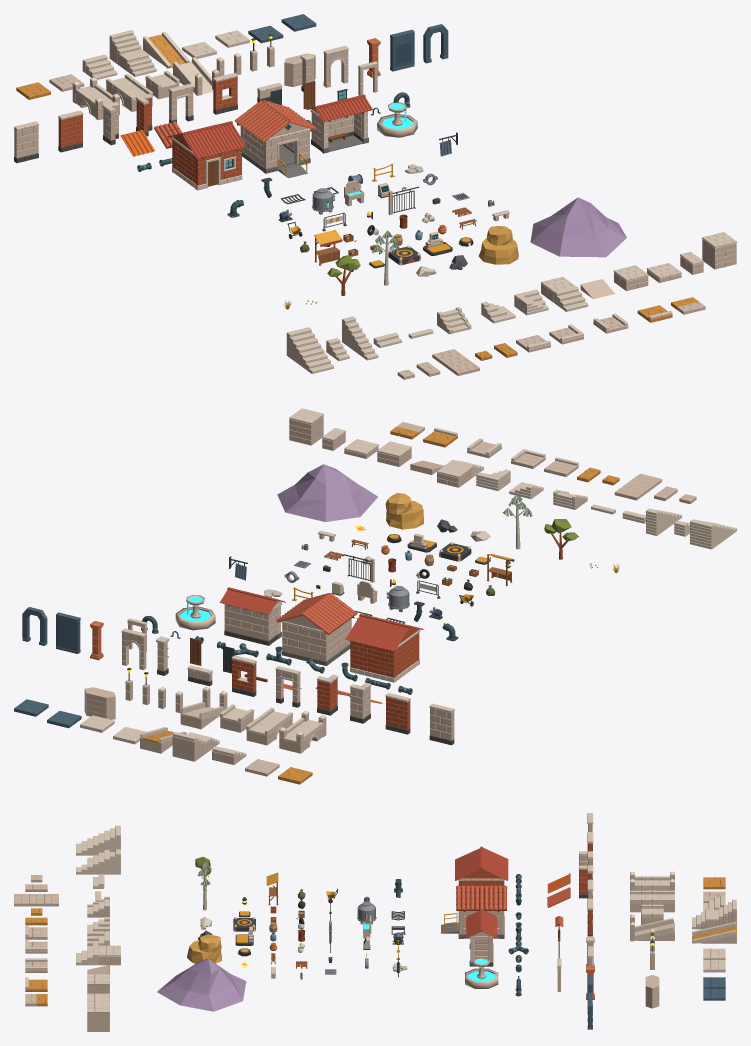
Rendered from kit_completo.glb.
3 views of the same model, one above another, from view 1: azimuth 30°, elevation 25°; view 2: azimuth 150°, elevation 25°; view 3: azimuth 270°, elevation 25° (orthographic). The views are drawn at different scales.
Parts seen in each view (by area): view 1: montana, chapa_01 (×2), meseta; view 2: montana, chapa_02 (×2), meseta, cuerpo_01, pila_01; view 3: montana, meseta, chapa_02, chapa_01, pilon_01.
Part boxes in pixels (box(x1,y1,x2,y2)): montana: box(530, 197, 626, 257); chapa_01 (×2): box(183, 96, 372, 159); meseta: box(478, 226, 518, 264); montana: box(277, 464, 377, 521); chapa_02 (×2): box(219, 590, 408, 651); meseta: box(385, 493, 423, 529); cuerpo_01: box(56, 616, 80, 651); pila_01: box(86, 687, 113, 718); montana: box(157, 958, 246, 1011); meseta: box(187, 934, 222, 963); chapa_02: box(482, 847, 508, 880); chapa_01: box(455, 848, 480, 880); pilon_01: box(465, 968, 498, 988).
Size of the model in its own units: 39.5 by 6.7 by 64.11.
